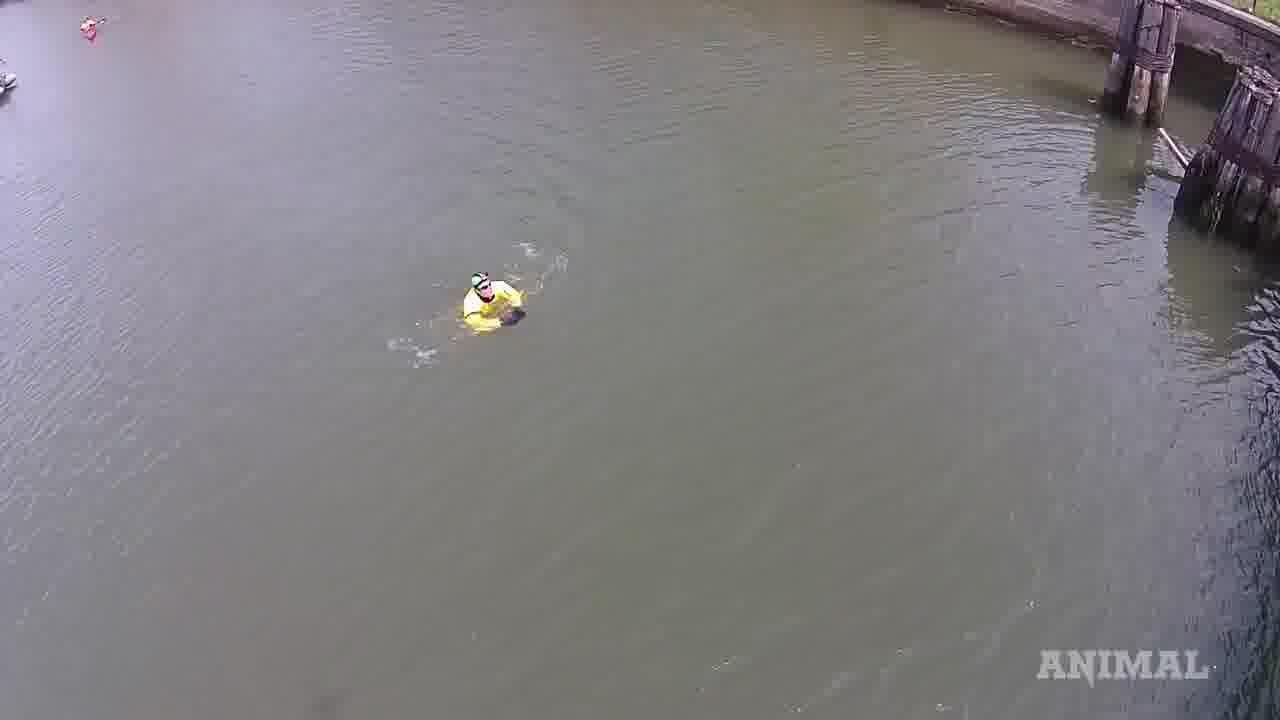human: (434, 256, 553, 343)
